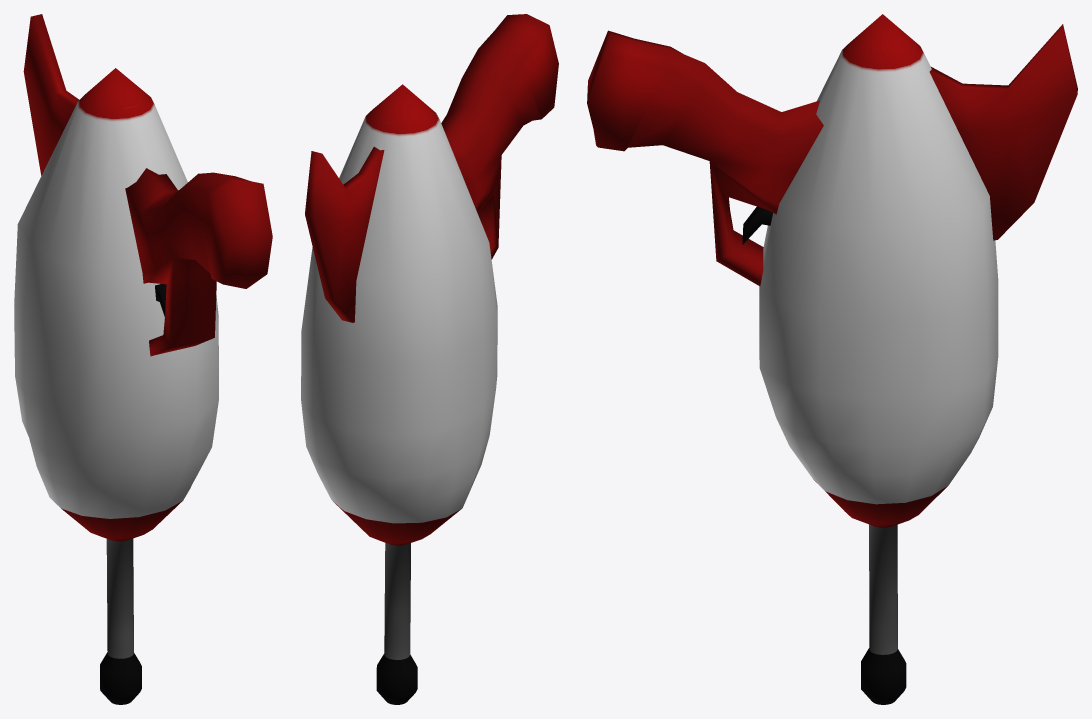
The model's file is AlienBlaster.fbx.
3 views of the same model, side by side, from view 1: azimuth 30°, elevation 25°; view 2: azimuth 150°, elevation 25°; view 3: azimuth 270°, elevation 25° (orthographic). The views are drawn at different scales.
Visible parts, largest first — view 1: Cylinder.003; view 2: Cylinder.003; view 3: Cylinder.003.
Part boxes in pixels (x1,y1,x2,y2): Cylinder.003: (14, 14, 272, 704); Cylinder.003: (301, 14, 558, 704); Cylinder.003: (587, 14, 1077, 704).
Size of the model in its own units: 0.0834 by 0.3108 by 0.2024.
